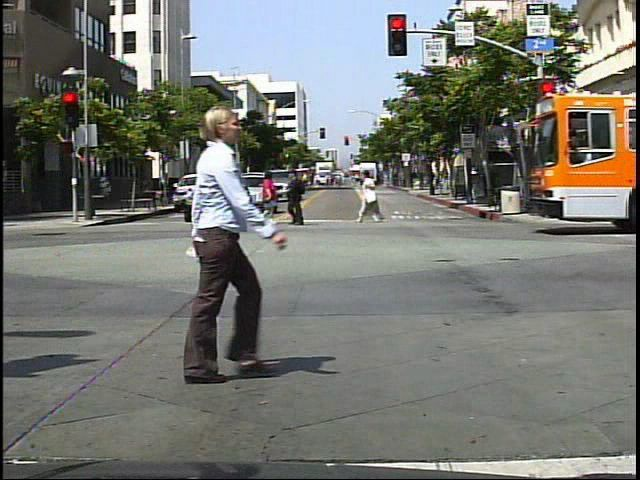person: (135, 91, 304, 394), (252, 168, 282, 227), (357, 167, 386, 227), (285, 166, 311, 228), (562, 160, 564, 209)
